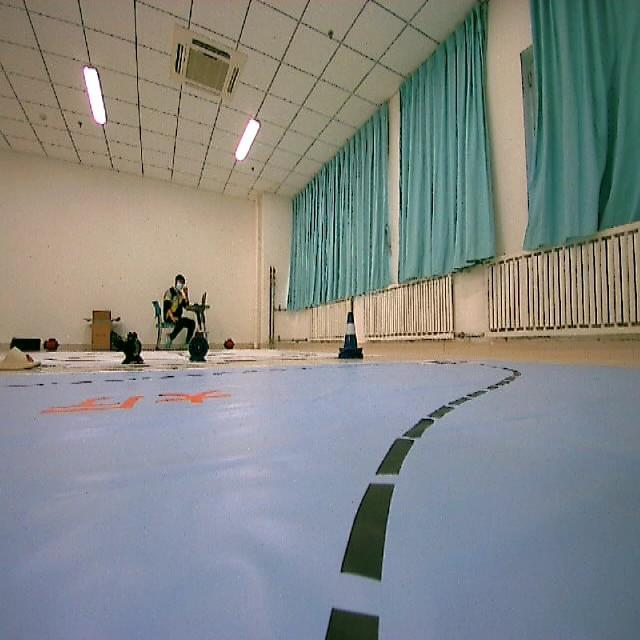obstacle: (329, 310, 367, 363)
